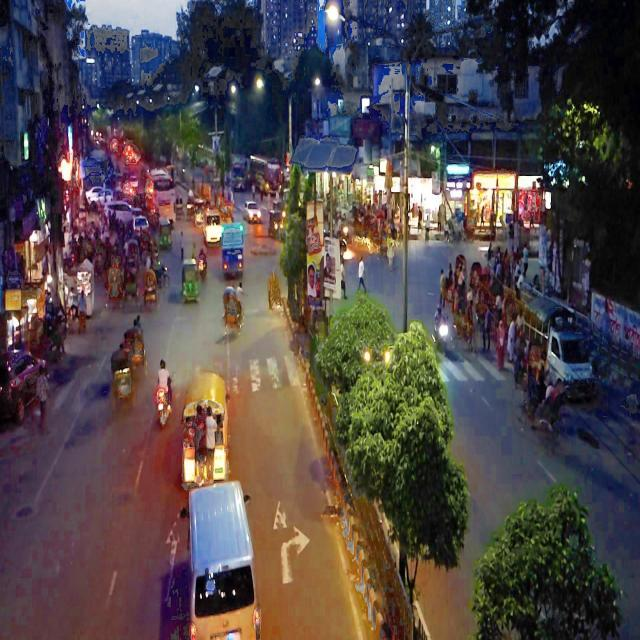maroon: (0, 347, 48, 432)
white: (187, 481, 264, 640)
